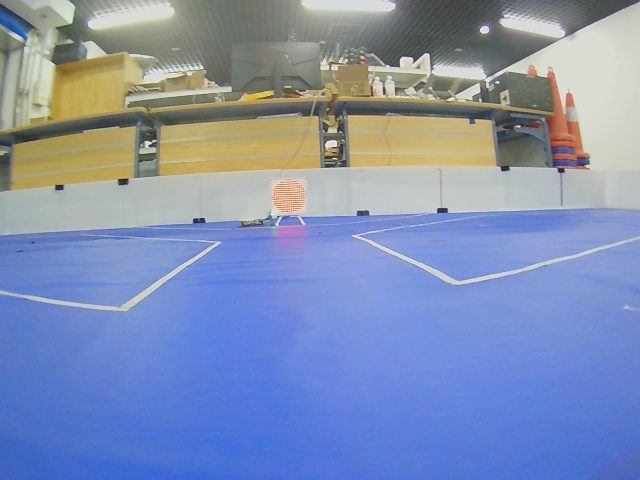red: (271, 179, 306, 216)
